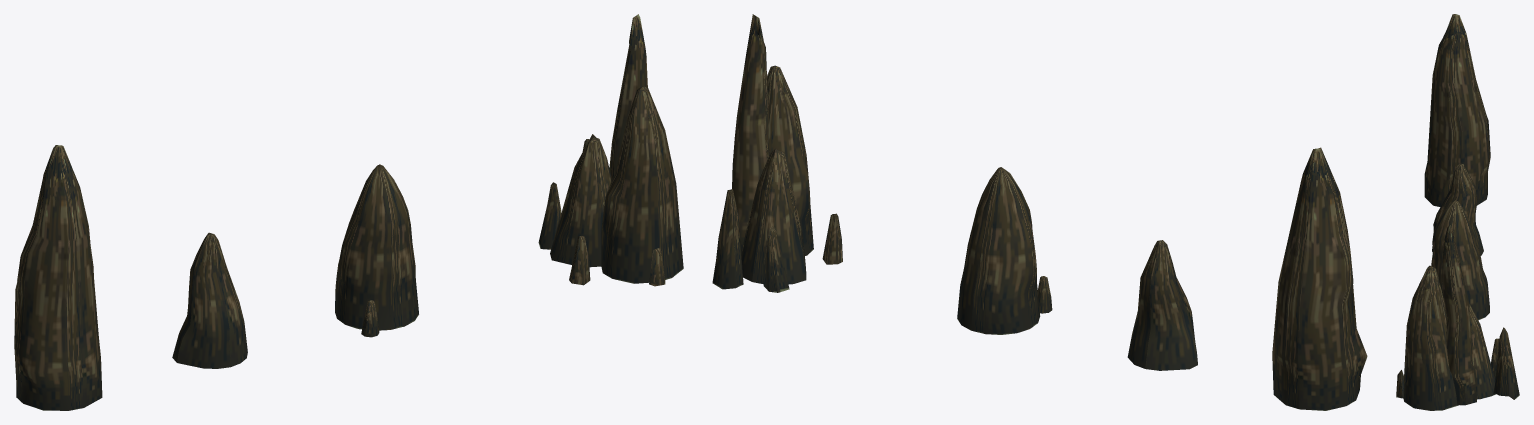
The model's file is ObjMD_Reef_C_002.FBX.
3 views of the same model, side by side, from view 1: azimuth 30°, elevation 25°; view 2: azimuth 150°, elevation 25°; view 3: azimuth 270°, elevation 25° (orthographic). The views are drawn at different scales.
Parts seen in each view (by area): view 1: ObjMD_Reef_C_003, ObjMD_Reef_C_004, ObjMD_Reef_C_002, ObjMD_Reef_C_001; view 2: ObjMD_Reef_C_003, ObjMD_Reef_C_004, ObjMD_Reef_C_002, ObjMD_Reef_C_001; view 3: ObjMD_Reef_C_003, ObjMD_Reef_C_004, ObjMD_Reef_C_002, ObjMD_Reef_C_001.
Part boxes in pixels (bbox=[...]): ObjMD_Reef_C_003: bbox=[538, 14, 683, 286]; ObjMD_Reef_C_004: bbox=[14, 145, 102, 410]; ObjMD_Reef_C_002: bbox=[335, 164, 418, 337]; ObjMD_Reef_C_001: bbox=[172, 232, 247, 368]; ObjMD_Reef_C_003: bbox=[712, 14, 842, 292]; ObjMD_Reef_C_004: bbox=[1272, 147, 1367, 410]; ObjMD_Reef_C_002: bbox=[957, 167, 1052, 334]; ObjMD_Reef_C_001: bbox=[1127, 240, 1197, 370]; ObjMD_Reef_C_003: bbox=[1396, 225, 1519, 410]; ObjMD_Reef_C_004: bbox=[1424, 14, 1490, 206]; ObjMD_Reef_C_002: bbox=[1431, 200, 1489, 320]; ObjMD_Reef_C_001: bbox=[1432, 163, 1483, 255].
Bounding box in the file's own units: 1087 × 400 × 247.
